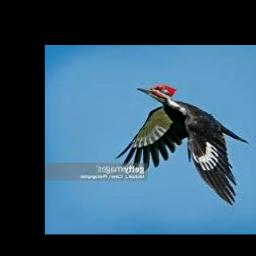Woodpecker: (115, 84, 249, 206)
